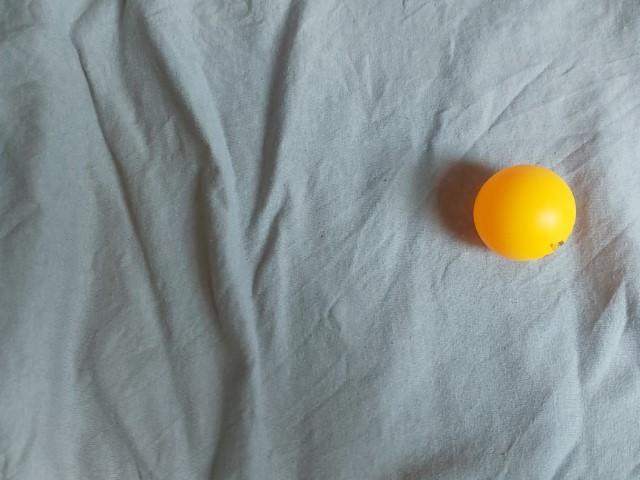oball: (53, 210, 175, 322)
